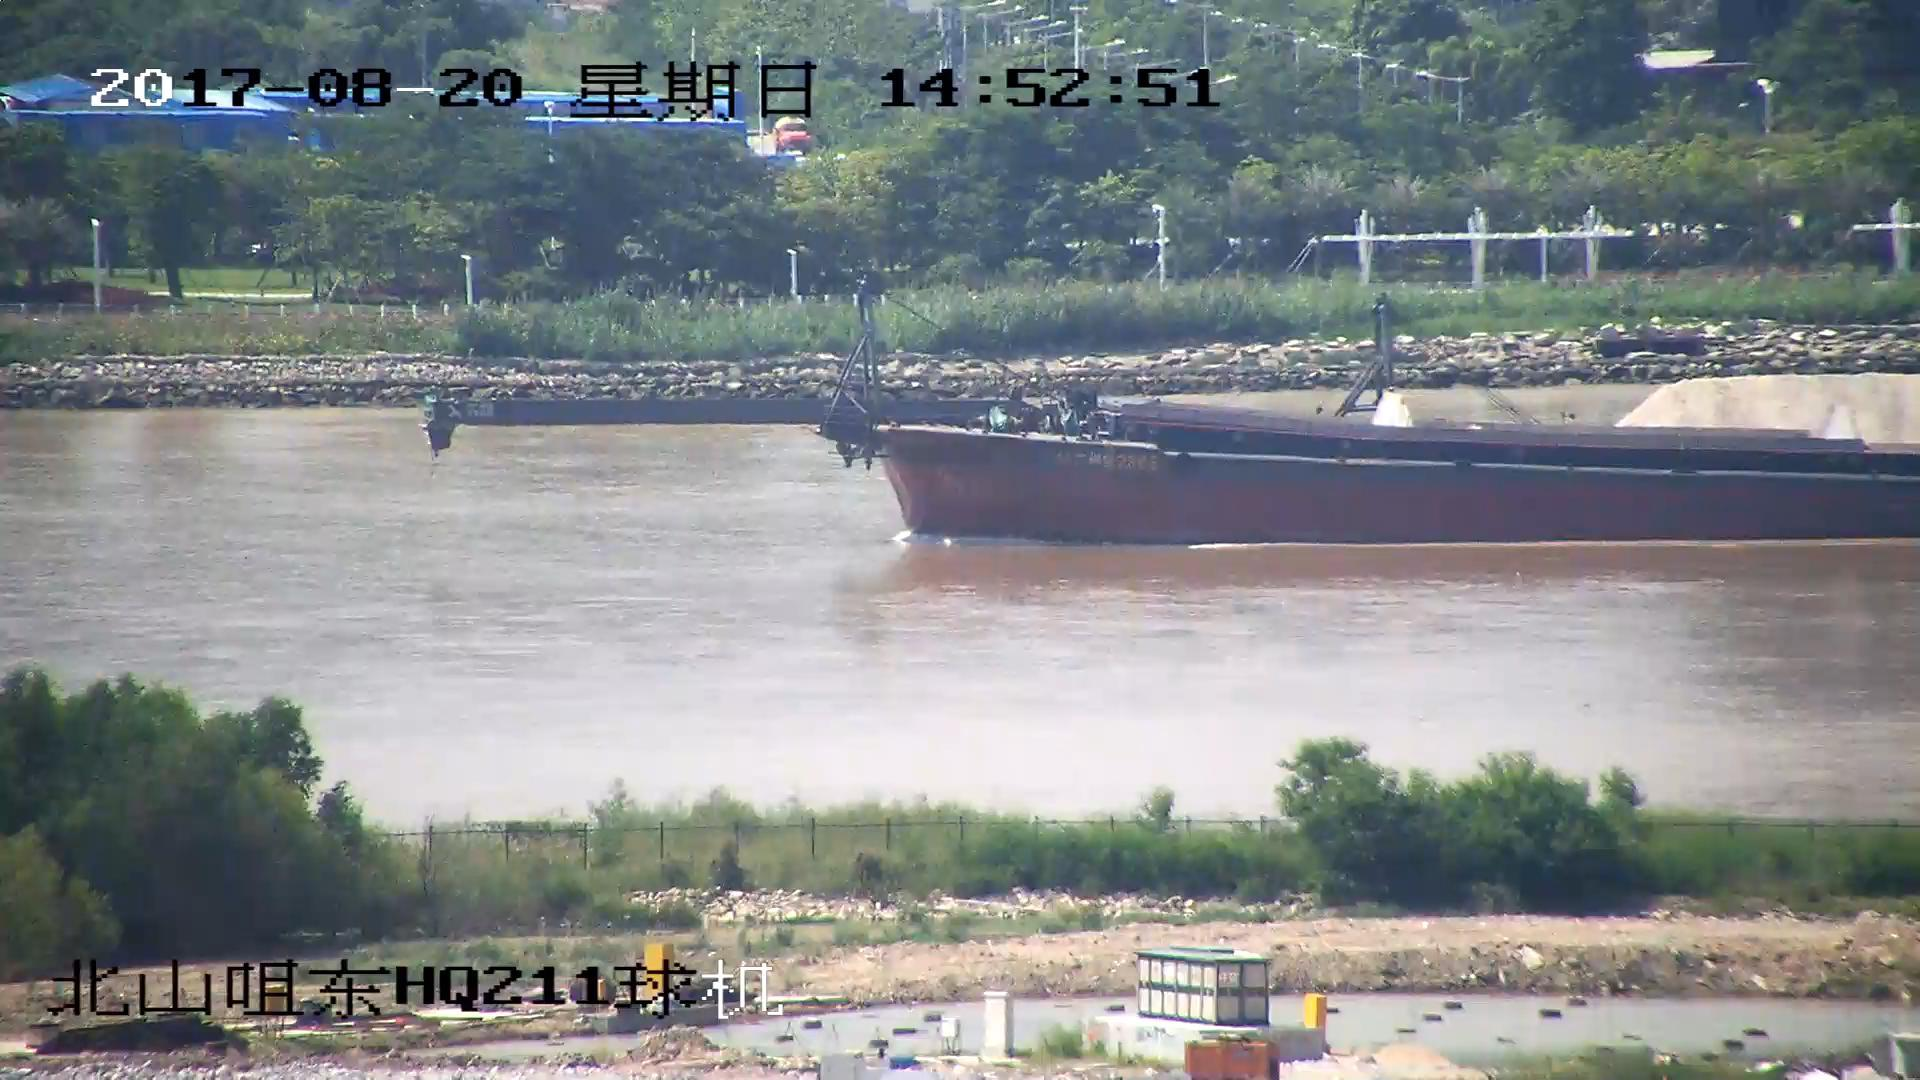Ship: (430, 291, 1920, 543), (1106, 309, 1920, 454)
